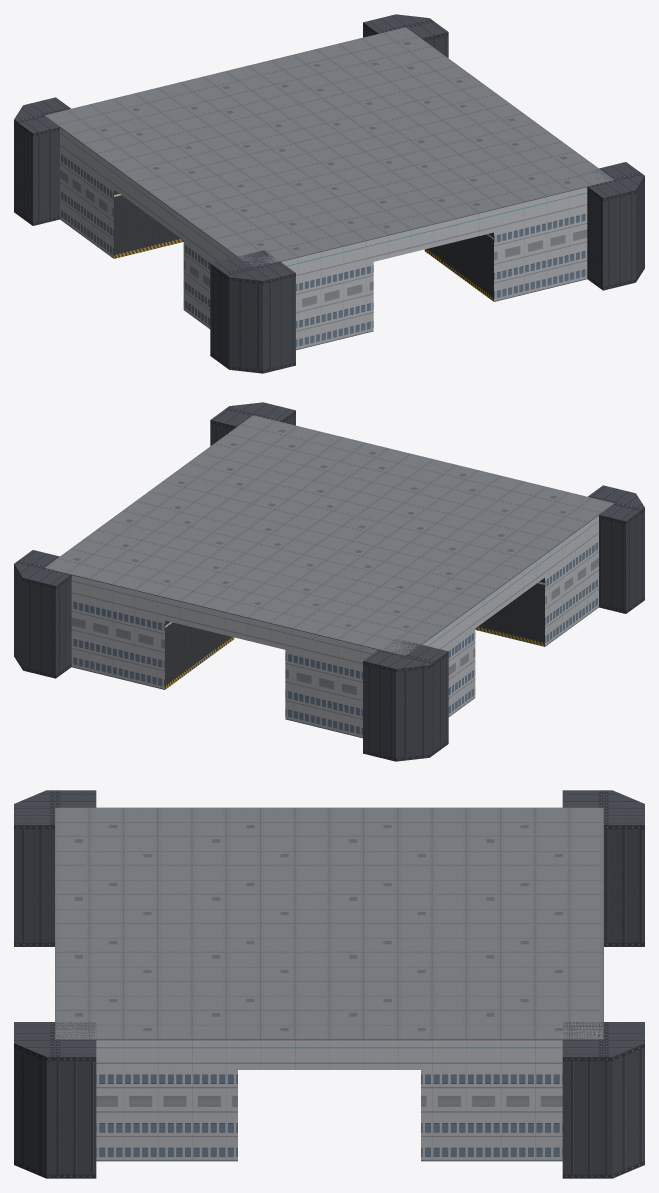
File: BLD_BASE_N_GateX.fbx
3 renders of one model, top to bottom at view 1: azimuth 30°, elevation 25°; view 2: azimuth 150°, elevation 25°; view 3: azimuth 270°, elevation 25°, orthographic. The views are drawn at different scales.
Parts seen in each view (by area): view 1: BLD_BASE_N_GateX; view 2: BLD_BASE_N_GateX; view 3: BLD_BASE_N_GateX.
Boxes of the visible parts, bbox=[...] form: BLD_BASE_N_GateX: bbox=[14, 14, 644, 373]; BLD_BASE_N_GateX: bbox=[14, 402, 644, 761]; BLD_BASE_N_GateX: bbox=[14, 790, 644, 1178].
Bounding box in the file's own units: 115 × 24.5 × 115.
